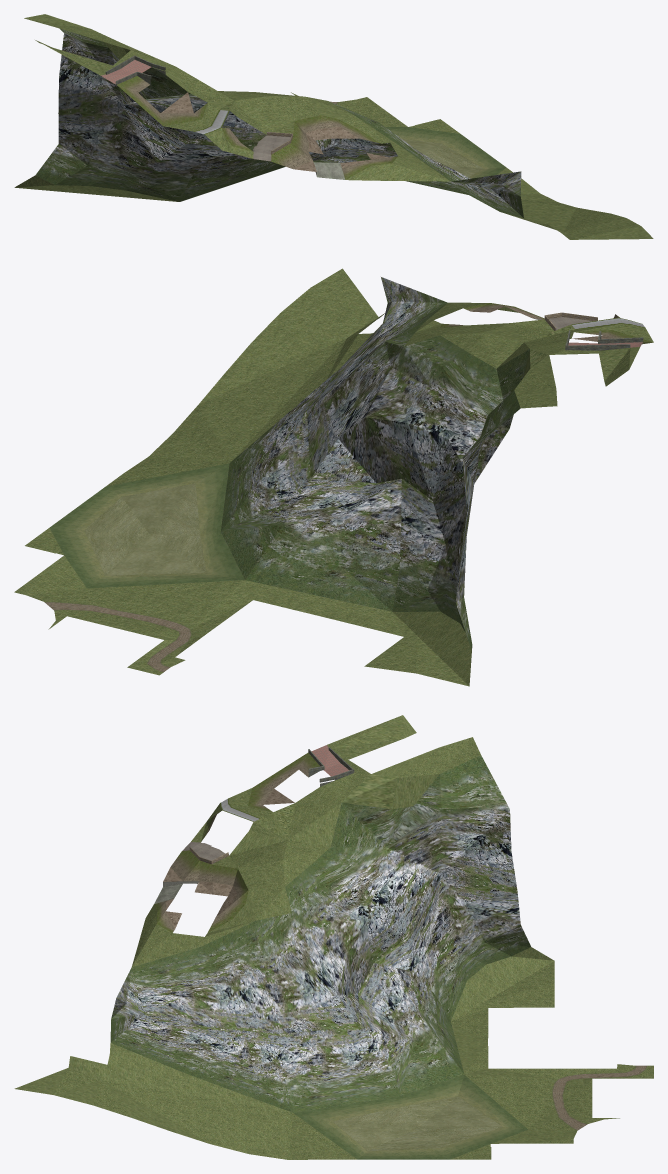
Rendered from cuntehil01.obj.
3 renders of one model, top to bottom at view 1: azimuth 30°, elevation 25°; view 2: azimuth 150°, elevation 25°; view 3: azimuth 270°, elevation 25°, orthographic. The views are drawn at different scales.
Parts seen in each view (by area): view 1: cuntehil01; view 2: cuntehil01; view 3: cuntehil01.
Boxes of the visible parts, <box> form: cuntehil01: <box>14,14,653,239</box>; cuntehil01: <box>14,268,653,686</box>; cuntehil01: <box>14,715,653,1159</box>.
Bounding box in the file's own units: 212 × 102 × 259.
